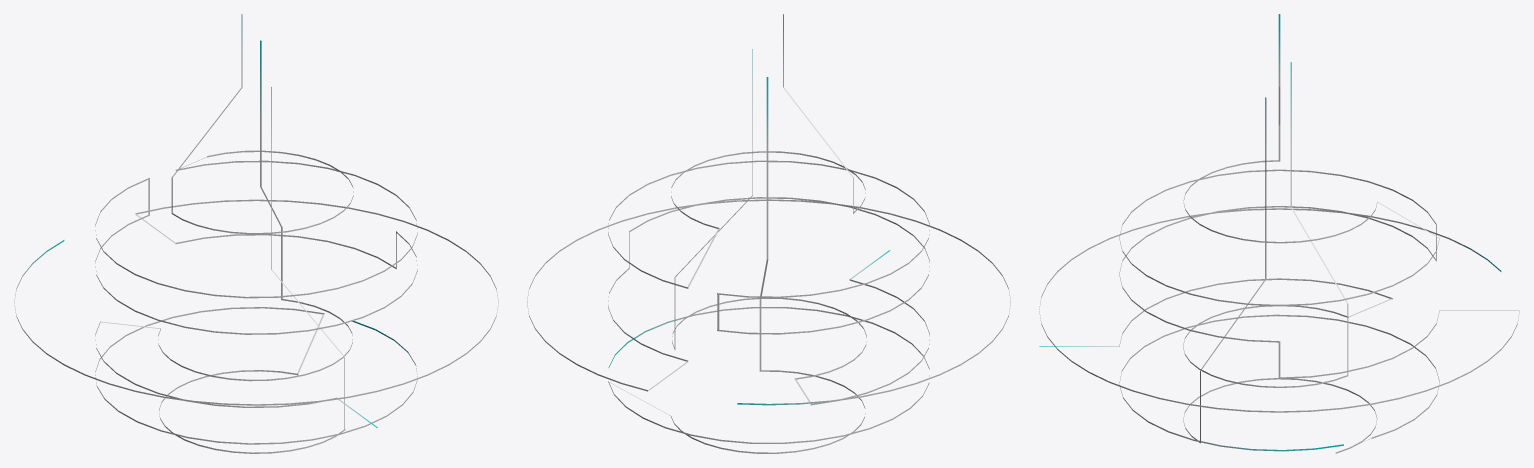
Rendered from SM_Tech_Holo_Splines.fbx.
3 renders of one model, left to right at view 1: azimuth 30°, elevation 25°; view 2: azimuth 150°, elevation 25°; view 3: azimuth 270°, elevation 25°, orthographic.
Visible parts, largest first — view 1: SM_Tech_Holo_Splines; view 2: SM_Tech_Holo_Splines; view 3: SM_Tech_Holo_Splines.
Part boxes in pixels (x1=…): SM_Tech_Holo_Splines: x1=14, y1=14, x2=498, y2=453; SM_Tech_Holo_Splines: x1=527, y1=14, x2=1010, y2=453; SM_Tech_Holo_Splines: x1=1039, y1=14, x2=1519, y2=453.
Size of the model in its own units: 60 by 60 by 55.
